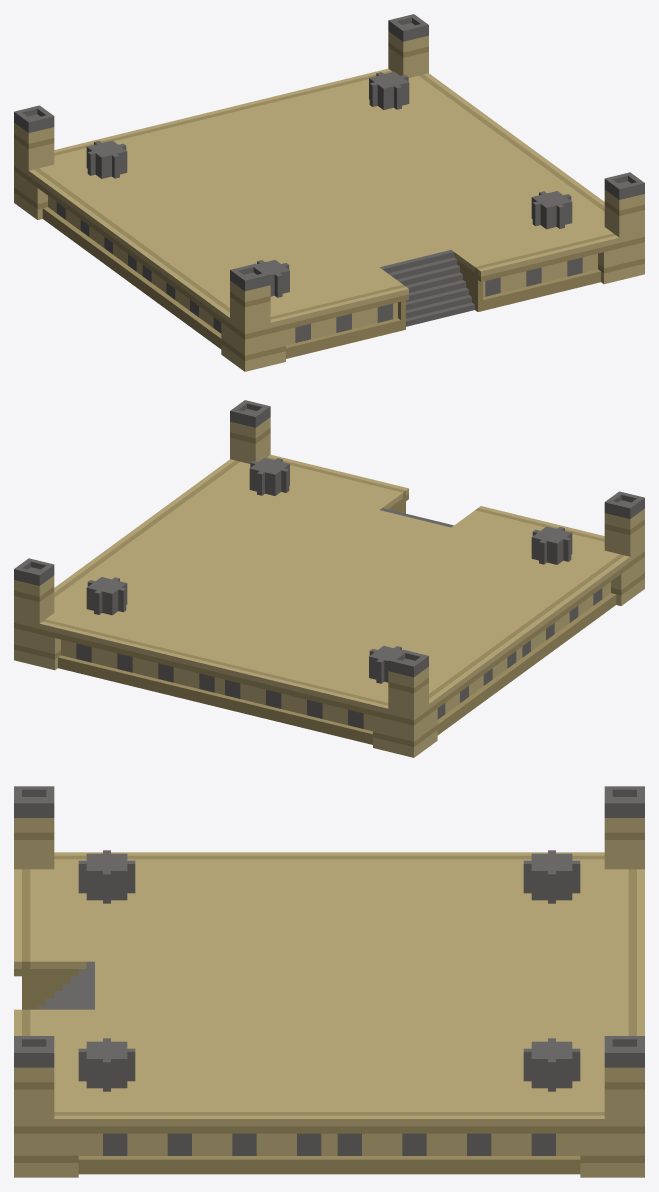
The model's file is foundation.glb.
3 views of the same model, one above another, from view 1: azimuth 30°, elevation 25°; view 2: azimuth 150°, elevation 25°; view 3: azimuth 270°, elevation 25° (orthographic). The views are drawn at different scales.
Bounding box in the file's own units: 78 × 17 × 78.
